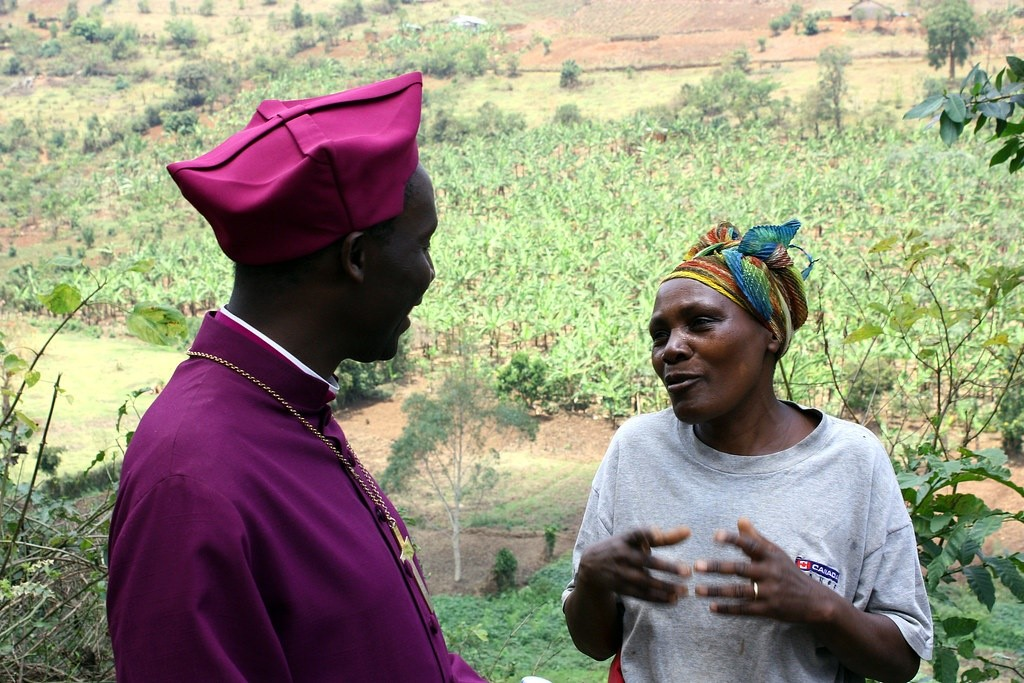face_no_mask: (644, 260, 780, 429)
